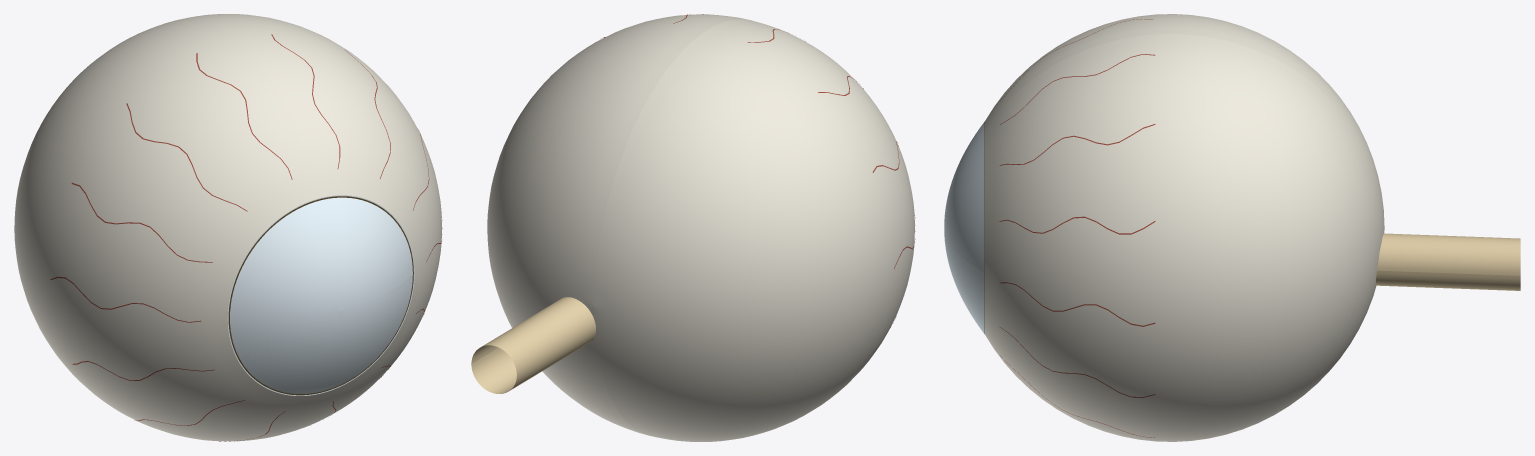
File: lab-eye-ultra.glb
The picture shows the model from 3 angles, left to right: view 1: azimuth 30°, elevation 25°; view 2: azimuth 150°, elevation 25°; view 3: azimuth 270°, elevation 25°; orthographic projection.
Parts seen in each view (by area): view 1: part-sclera-back, part-cornea-dome, part-sclera-front, part-sclera-vessels, part-iris, part-cornea-rim; view 2: part-sclera-back, part-sclera-front, part-optic-nerve; view 3: part-sclera-front, part-optic-nerve, part-sclera-back, part-cornea-dome, part-sclera-vessels.
Boxes of the visible parts, x1,y1,x2,y2 form: part-sclera-back: (14, 18, 320, 441); part-cornea-dome: (230, 197, 412, 393); part-sclera-front: (181, 14, 441, 433); part-sclera-vessels: (50, 34, 442, 441); part-iris: (228, 196, 413, 395); part-cornea-rim: (227, 195, 414, 395); part-sclera-back: (594, 19, 914, 441); part-sclera-front: (487, 14, 748, 435); part-optic-nerve: (471, 297, 595, 393); part-sclera-front: (985, 34, 1384, 441); part-optic-nerve: (1376, 233, 1520, 290); part-sclera-back: (985, 14, 1384, 218); part-cornea-dome: (944, 121, 984, 334); part-sclera-vessels: (999, 19, 1155, 437).
Bounding box in the file's own units: 22 × 22 × 29.63.
